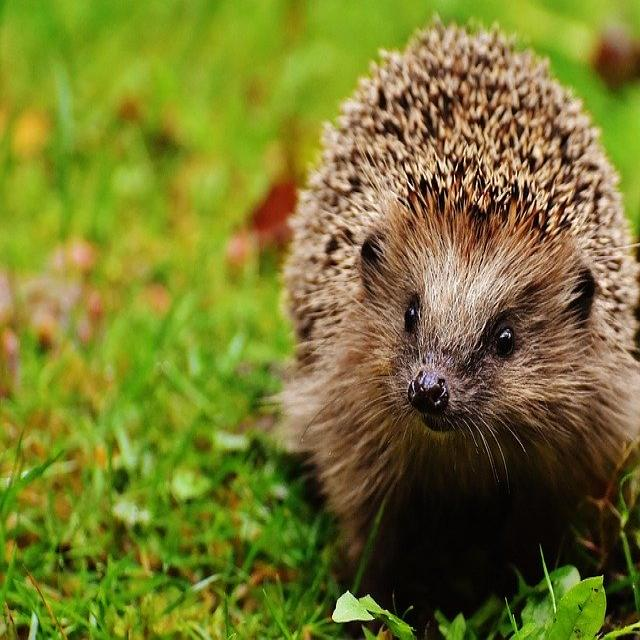Hedgehog: (278, 22, 640, 590)
